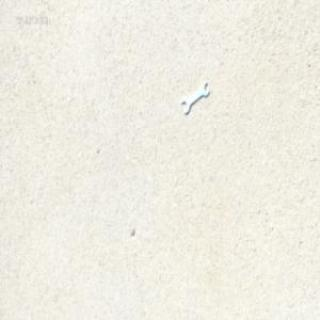Wrenchtrack_idkeyframe: (182, 80, 208, 114)
